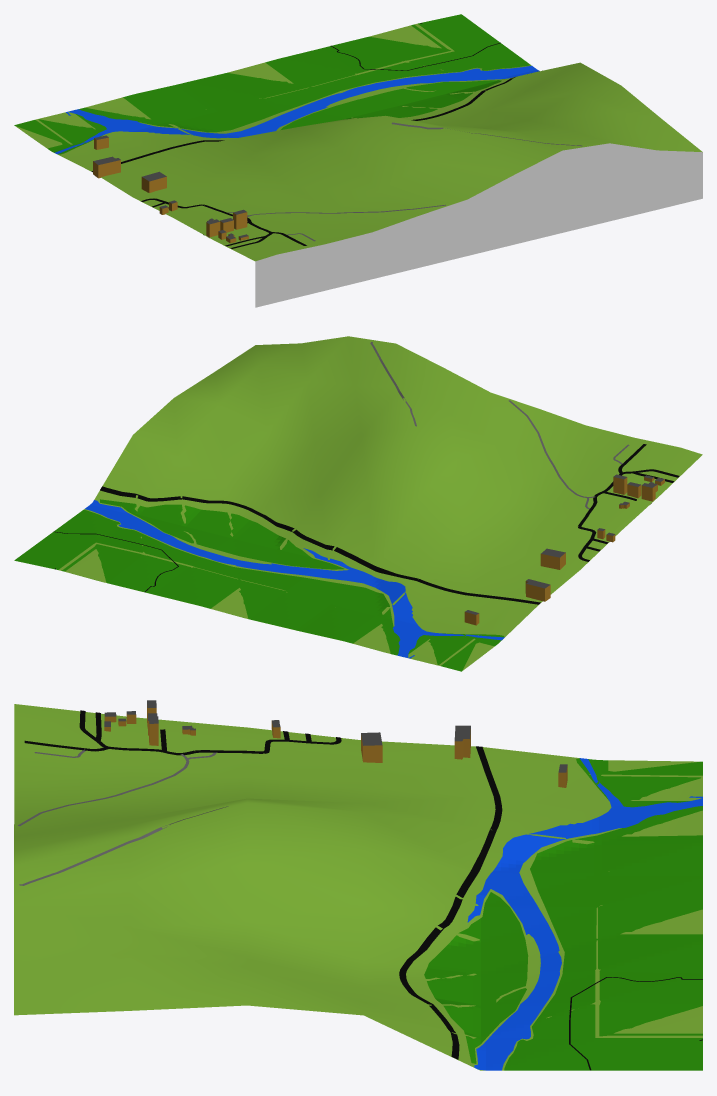
File: tile_03_00.glb
3 renders of one model, top to bottom at view 1: azimuth 30°, elevation 25°; view 2: azimuth 150°, elevation 25°; view 3: azimuth 270°, elevation 25°, orthographic. The views are drawn at different scales.
Parts seen in each view (by area): view 1: Terrain_03_00, Ub_small.osm_vegetation_03_00, Ub_small.osm_water_03_00, Ub_small.osm_buildings_03_00, Ub_small.osm_roads_service_03_00, Ub_small.osm_roads_residential_03_00, Ub_small.osm_roads_primary_03_00; view 2: Terrain_03_00, Ub_small.osm_vegetation_03_00, Ub_small.osm_water_03_00, Ub_small.osm_buildings_03_00, Ub_small.osm_roads_primary_03_00, Ub_small.osm_roads_residential_03_00, Ub_small.osm_roads_service_03_00; view 3: Terrain_03_00, Ub_small.osm_vegetation_03_00, Ub_small.osm_water_03_00, Ub_small.osm_buildings_03_00, Ub_small.osm_roads_primary_03_00, Ub_small.osm_roads_residential_03_00, Ub_small.osm_roads_service_03_00.
Boxes of the visible parts, x1=… form: Terrain_03_00: x1=15, y1=23, x2=702, y2=307; Ub_small.osm_vegetation_03_00: x1=14, y1=14, x2=530, y2=154; Ub_small.osm_water_03_00: x1=54, y1=65, x2=539, y2=154; Ub_small.osm_buildings_03_00: x1=93, y1=135, x2=248, y2=243; Ub_small.osm_roads_service_03_00: x1=228, y1=122, x2=582, y2=241; Ub_small.osm_roads_residential_03_00: x1=141, y1=198, x2=306, y2=248; Ub_small.osm_roads_primary_03_00: x1=91, y1=77, x2=515, y2=171; Terrain_03_00: x1=58, y1=336, x2=702, y2=670; Ub_small.osm_vegetation_03_00: x1=14, y1=499, x2=504, y2=671; Ub_small.osm_water_03_00: x1=85, y1=500, x2=504, y2=658; Ub_small.osm_buildings_03_00: x1=464, y1=474, x2=664, y2=625; Ub_small.osm_roads_primary_03_00: x1=100, y1=486, x2=540, y2=604; Ub_small.osm_roads_residential_03_00: x1=578, y1=444, x2=679, y2=561; Ub_small.osm_roads_service_03_00: x1=370, y1=342, x2=629, y2=509; Terrain_03_00: x1=14, y1=704, x2=702, y2=1070; Ub_small.osm_vegetation_03_00: x1=424, y1=758, x2=702, y2=1070; Ub_small.osm_water_03_00: x1=467, y1=758, x2=702, y2=1070; Ub_small.osm_buildings_03_00: x1=104, y1=700, x2=567, y2=787; Ub_small.osm_roads_primary_03_00: x1=399, y1=746, x2=502, y2=1059; Ub_small.osm_roads_residential_03_00: x1=24, y1=710, x2=341, y2=755; Ub_small.osm_roads_service_03_00: x1=18, y1=749, x2=228, y2=885.
Bounding box in the file's own units: 984 × 172 × 914.
